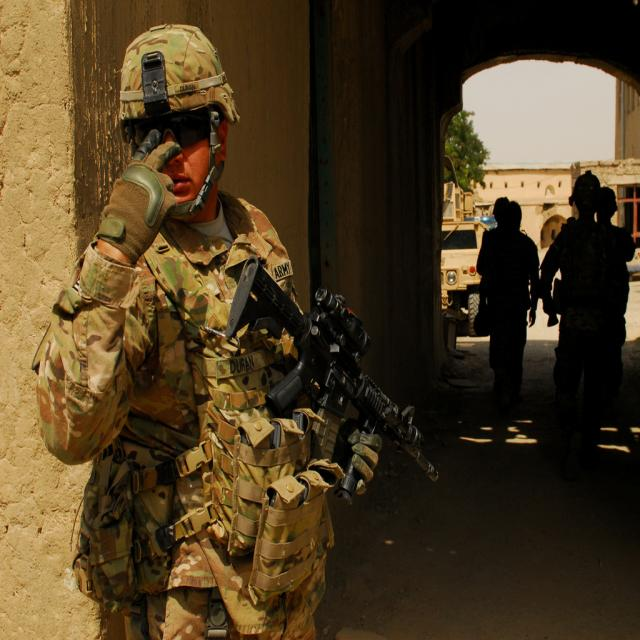Weapon: (176, 186, 469, 521)
